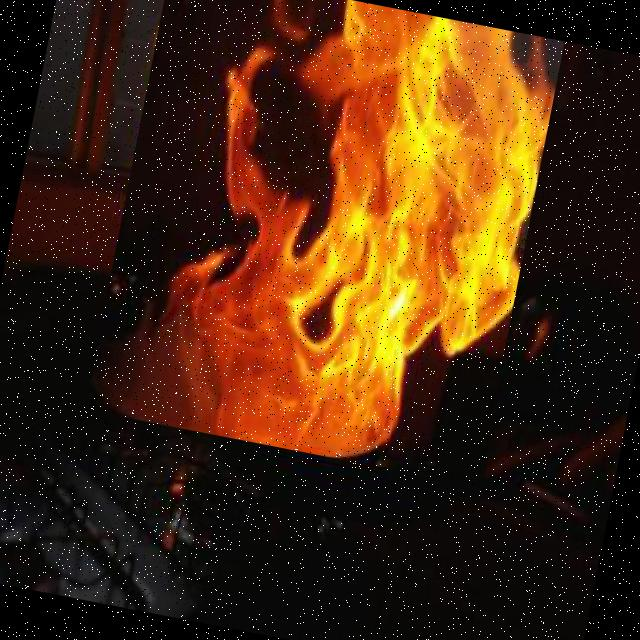fire: (84, 0, 564, 486)
